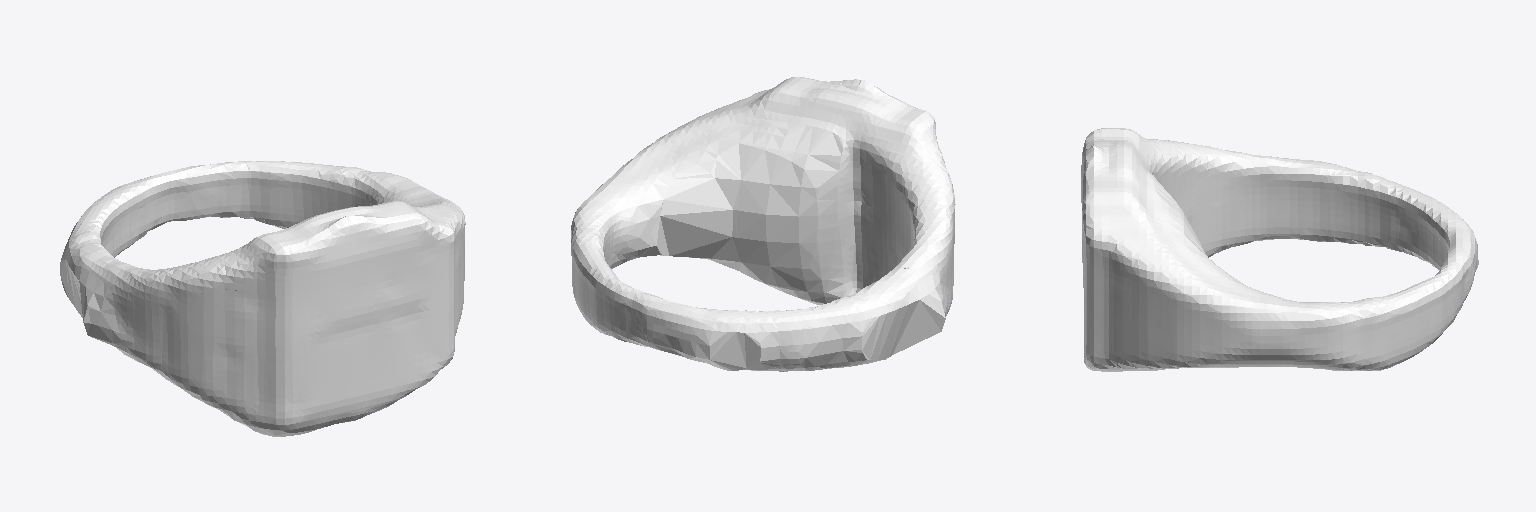
File: ddd.obj
3 renders of one model, left to right at view 1: azimuth 30°, elevation 25°; view 2: azimuth 150°, elevation 25°; view 3: azimuth 270°, elevation 25°, orthographic.
Visible parts, largest first — view 1: LOD01_t_34_85_canon1_m1_1; view 2: LOD01_t_34_85_canon1_m1_1; view 3: LOD01_t_34_85_canon1_m1_1.
Boxes of the visible parts, x1,y1,x2,y2 form: LOD01_t_34_85_canon1_m1_1: [60, 161, 465, 436]; LOD01_t_34_85_canon1_m1_1: [571, 77, 955, 371]; LOD01_t_34_85_canon1_m1_1: [1081, 128, 1478, 371].
Size of the model in its own units: 209 by 123 by 205.